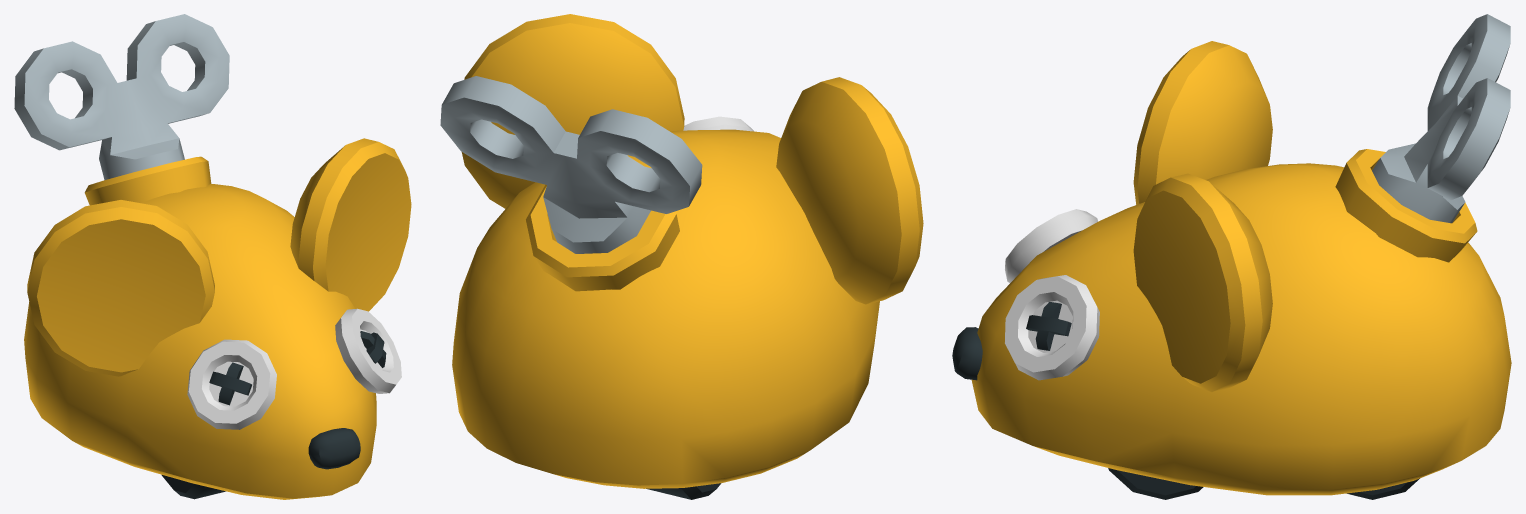
Rendered from toymouse_yellow.glb.
The picture shows the model from 3 angles, left to right: view 1: azimuth 30°, elevation 25°; view 2: azimuth 150°, elevation 25°; view 3: azimuth 270°, elevation 25°; orthographic projection. The views are drawn at different scales.
Parts seen in each view (by area): view 1: toymouse_yellow_, toymouse_yellow_key; view 2: toymouse_yellow_, toymouse_yellow_key; view 3: toymouse_yellow_, toymouse_yellow_key.
Boxes of the visible parts, x1,y1,x2,y2 form: toymouse_yellow_: (24, 138, 411, 499); toymouse_yellow_key: (14, 14, 229, 180); toymouse_yellow_: (452, 14, 923, 499); toymouse_yellow_key: (440, 76, 702, 253); toymouse_yellow_: (952, 41, 1511, 499); toymouse_yellow_key: (1372, 14, 1510, 223).
Size of the model in its own units: 0.6993 by 0.6073 by 0.76.
